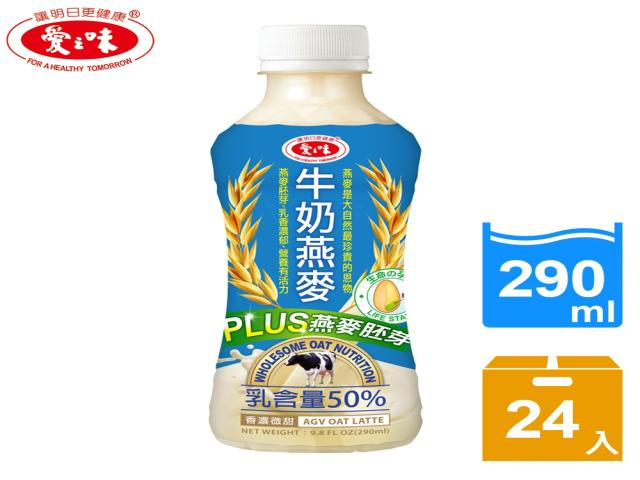bottle: (210, 25, 421, 452)
